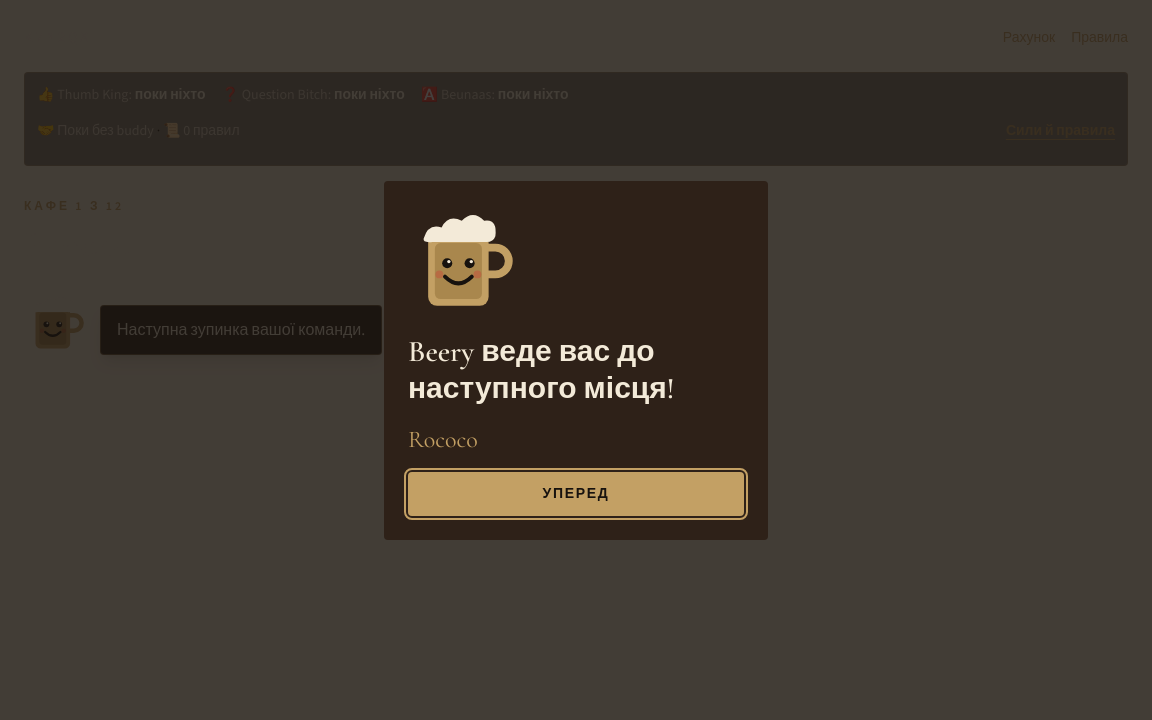
Scenario: Hidden Pubs in uk › navigation to the first café: fully in the language
What coordinates should you click on to do the following:
click the button "Уперед"
I would click on:
 (576, 494)
Its box is [408,472,744,516].
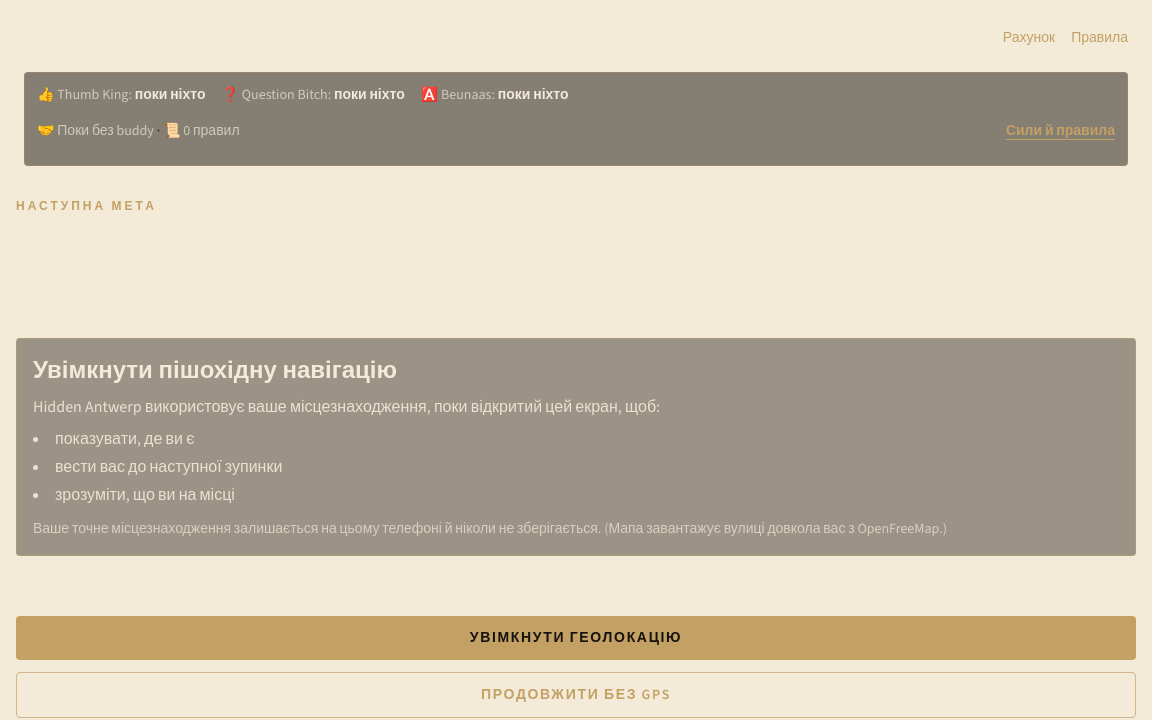
Expected: the button "Продовжити без GPS" is shown, [16,672,1136,718]
